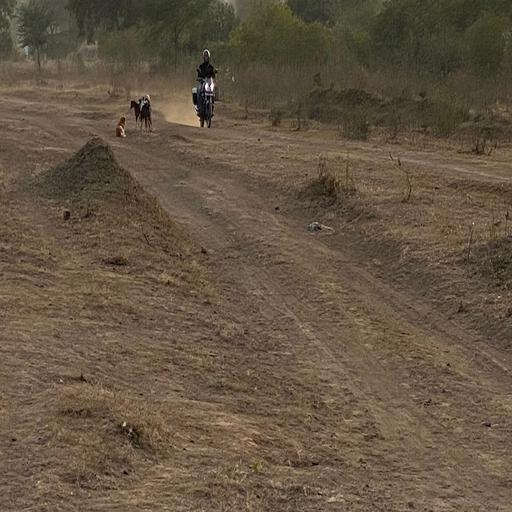vehicle_track: (110, 142, 512, 512)
